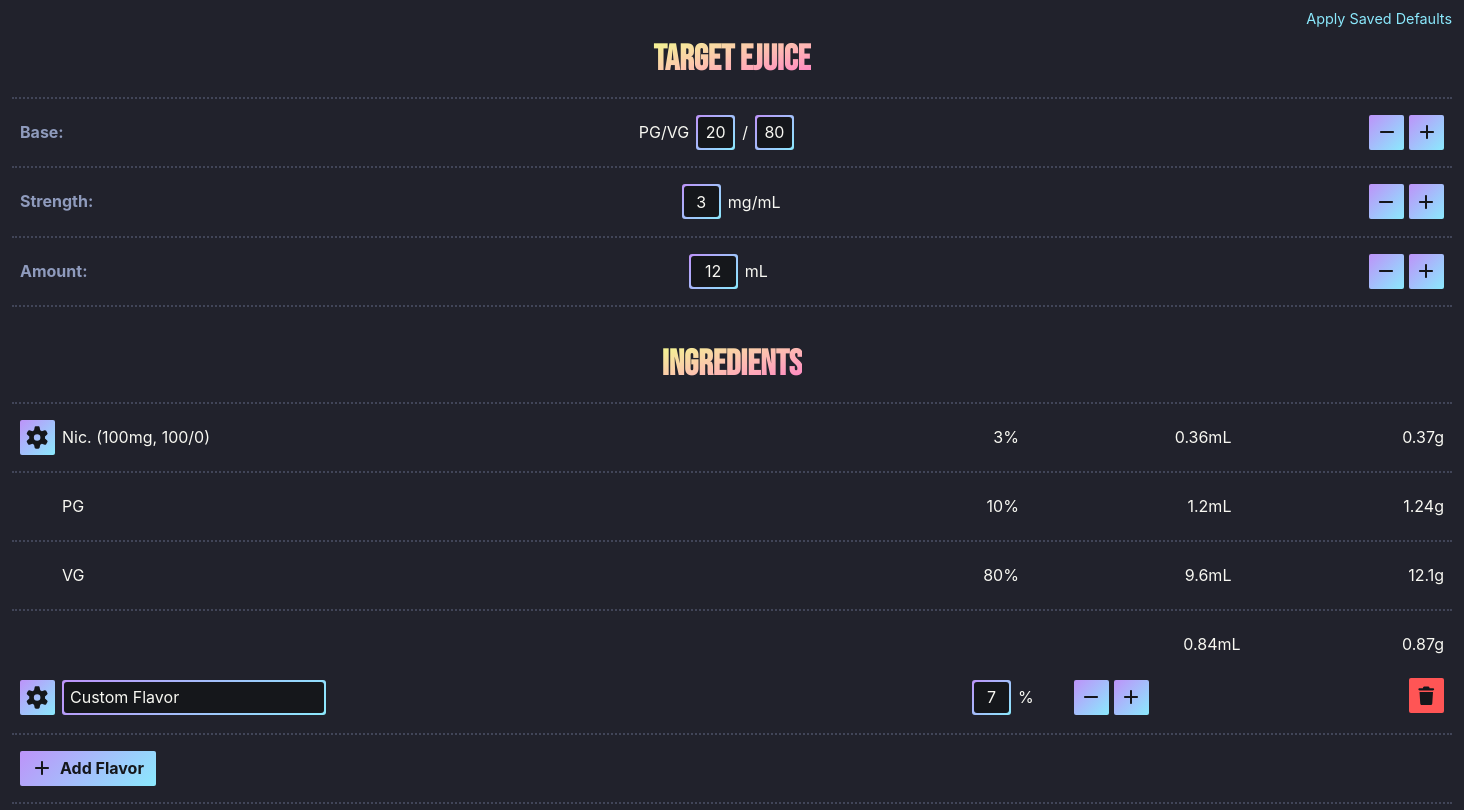
Test: Calculator initialization › applies saved defaults only when the user asks
The image size is (1464, 810).
Expected: the number field with test id "targetAmountInput" holds "12", [691,256,736,287]
What coordinates should you click on to do the following:
click the button with test id "applyDefaultsBtn"
I would click on:
 (1379, 19)
Its box is [1306,8,1452,30].
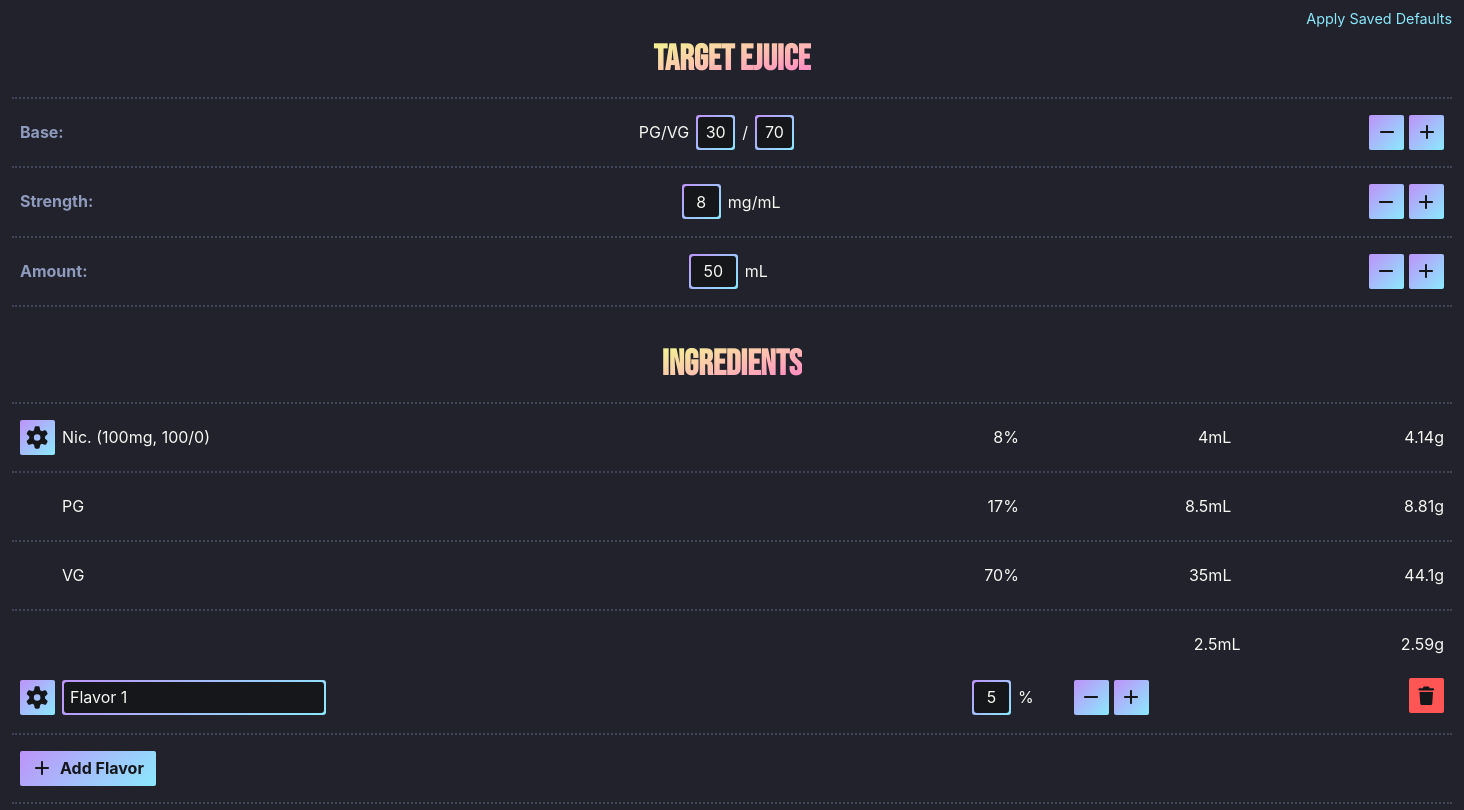
Expected: the number field with test id "targetAmountInput" holds "50", [691,256,736,287]
Expected: the field with test id "flavor1NameInput" holds "Flavor 1", [64,682,324,713]
